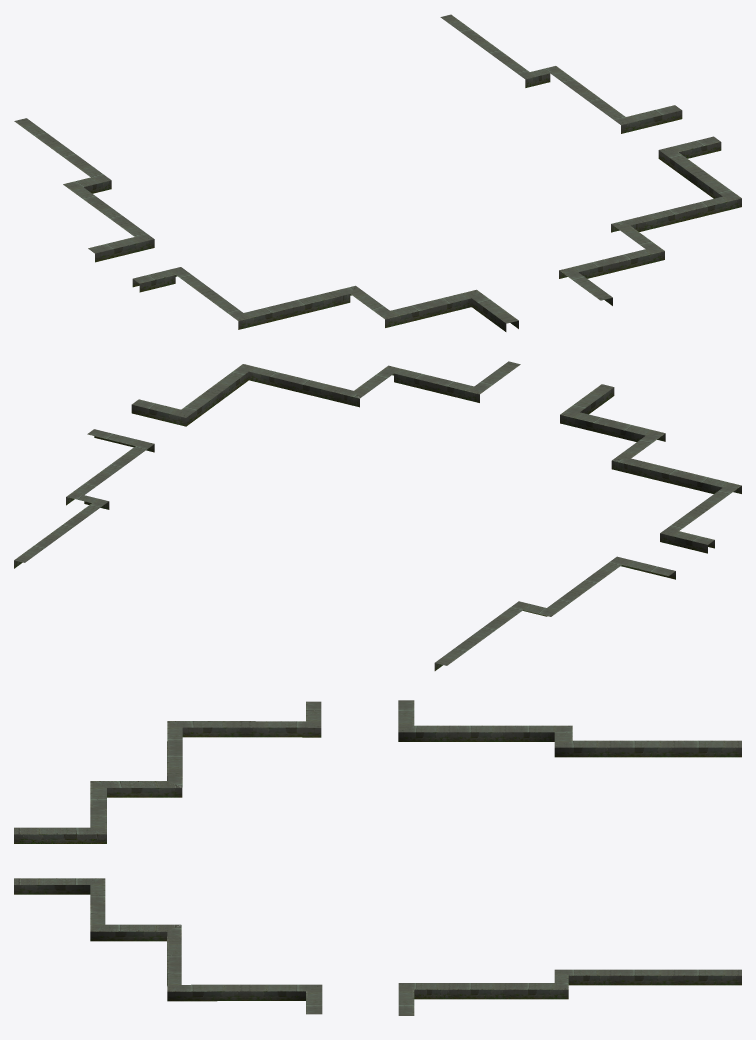
The model's file is fb_juxianzhuang_ditai.FBX.
3 renders of one model, top to bottom at view 1: azimuth 30°, elevation 25°; view 2: azimuth 150°, elevation 25°; view 3: azimuth 270°, elevation 25°, orthographic. The views are drawn at different scales.
Parts seen in each view (by area): view 1: fb_juxianzhuang_ditai; view 2: fb_juxianzhuang_ditai; view 3: fb_juxianzhuang_ditai.
Boxes of the visible parts, x1,y1,x2,y2 form: fb_juxianzhuang_ditai: (14,14,741,331); fb_juxianzhuang_ditai: (14,361,741,670); fb_juxianzhuang_ditai: (14,700,741,1015).
Bounding box in the file's own units: 3501 × 50.06 × 3414.
1 material, 1 textured.
